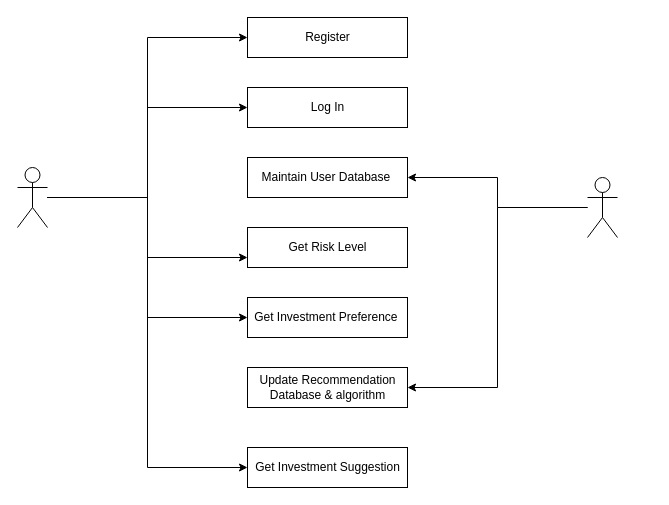
Some shapes in this 669 by 505 pixel diagram are drawn without their labels. Each missing label, with the centre of its shape:
"Software Devolper" goes at pixel 602 207.
"User" goes at pixel 32 197.
